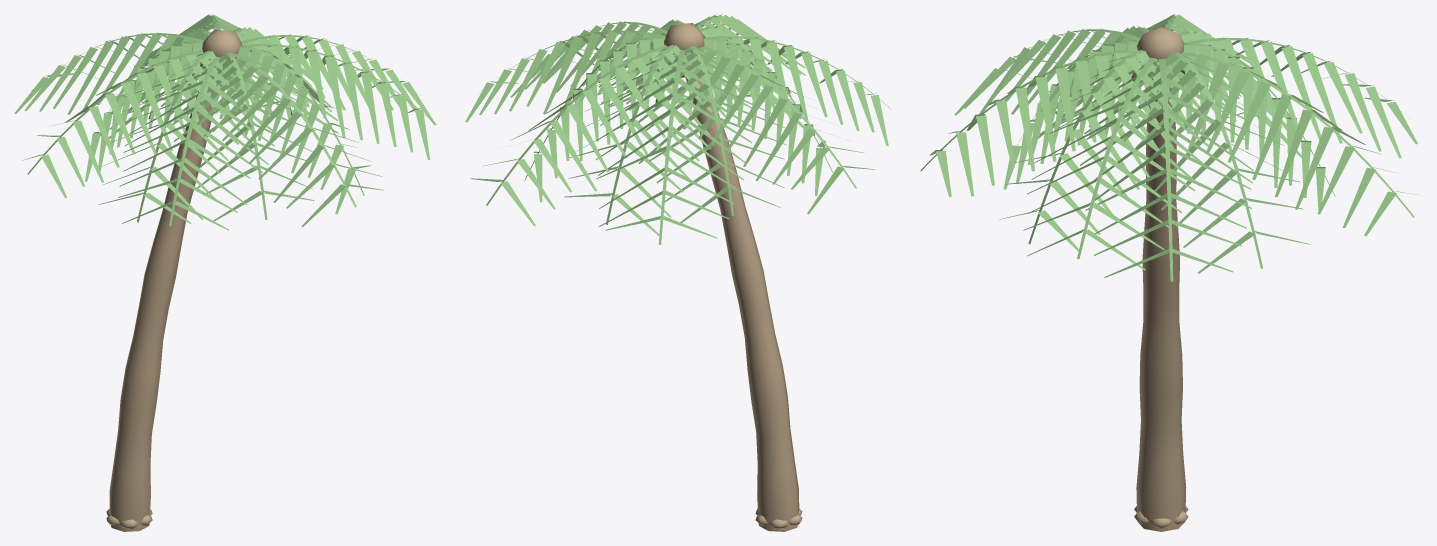
The model's file is palm.glb.
3 renders of one model, left to right at view 1: azimuth 30°, elevation 25°; view 2: azimuth 150°, elevation 25°; view 3: azimuth 270°, elevation 25°, orthographic. The views are drawn at different scales.
Visible parts, largest first — view 1: palm; view 2: palm; view 3: palm.
Part boxes in pixels (<box>): palm: <box>14,14,436,531</box>; palm: <box>465,14,890,531</box>; palm: <box>920,14,1420,531</box>.
Size of the model in its own units: 6.44 by 7.51 by 6.26.
